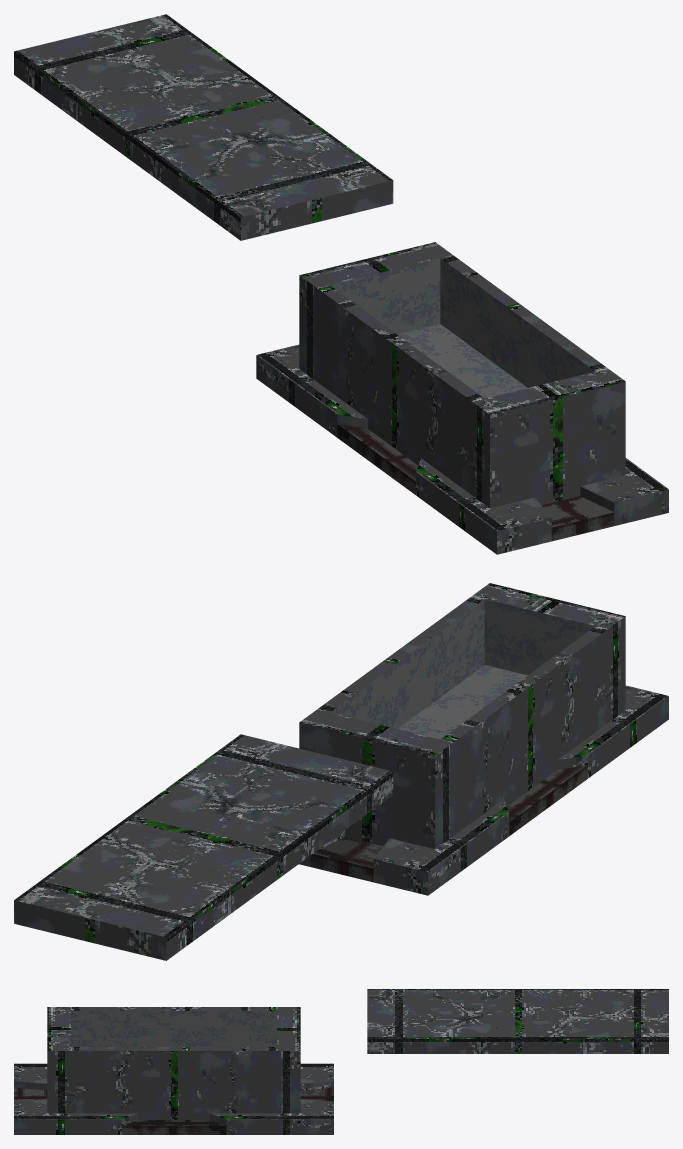
File: tomb_01.gltf
The picture shows the model from 3 angles, top to bottom: view 1: azimuth 30°, elevation 25°; view 2: azimuth 150°, elevation 25°; view 3: azimuth 270°, elevation 25°; orthographic projection. The views are drawn at different scales.
Parts seen in each view (by area): view 1: tomb_01, tomb_slab_01; view 2: tomb_01, tomb_slab_01; view 3: tomb_01, tomb_slab_01.
Part boxes in pixels (x1=…): tomb_01: x1=256, y1=242, x2=668, y2=554; tomb_slab_01: x1=14, y1=14, x2=393, y2=240; tomb_01: x1=299, y1=583, x2=668, y2=895; tomb_slab_01: x1=14, y1=734, x2=393, y2=960; tomb_01: x1=14, y1=1007, x2=333, y2=1134; tomb_slab_01: x1=367, y1=989, x2=668, y2=1053.
Size of the model in its own units: 1.15 by 0.8968 by 5.71.
Materials: 1 (1 with a texture image).
